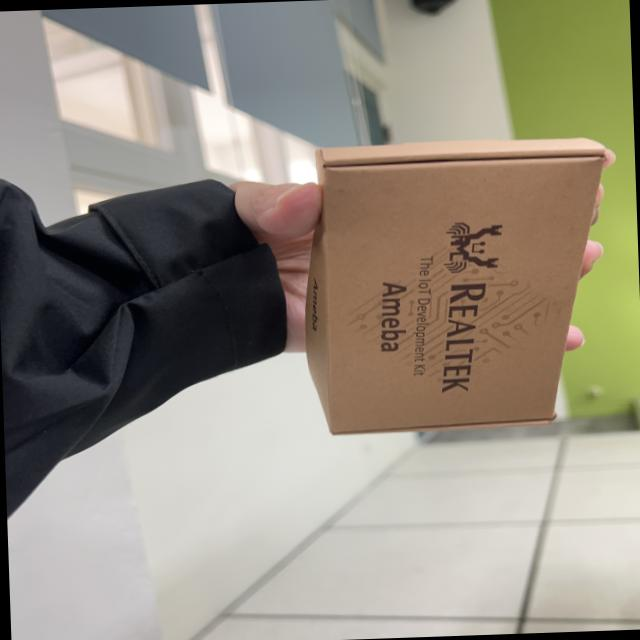box: (291, 115, 632, 445)
